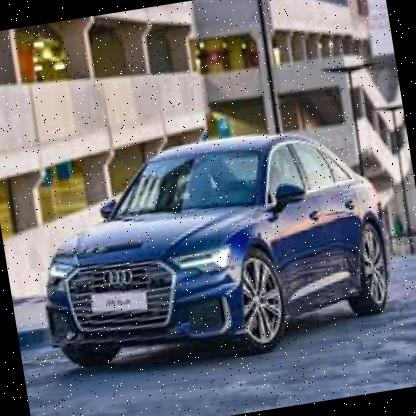car: (11, 105, 411, 391)
